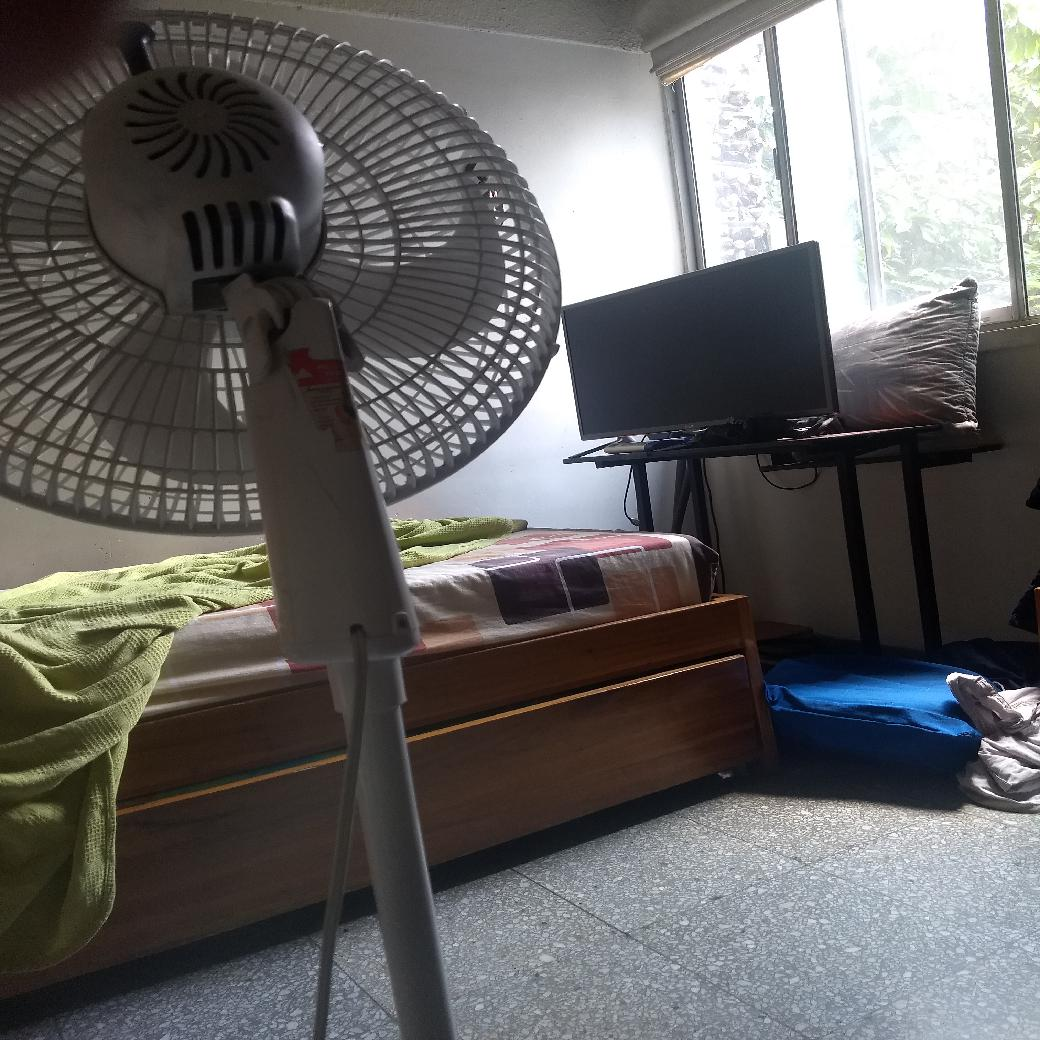tv: (569, 245, 842, 450)
ventilador: (12, 10, 564, 684)
